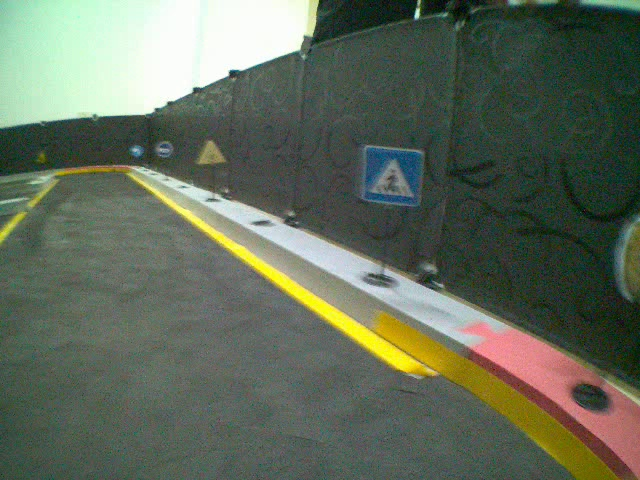crossing: (360, 140, 427, 210)
horn: (157, 138, 173, 160)
